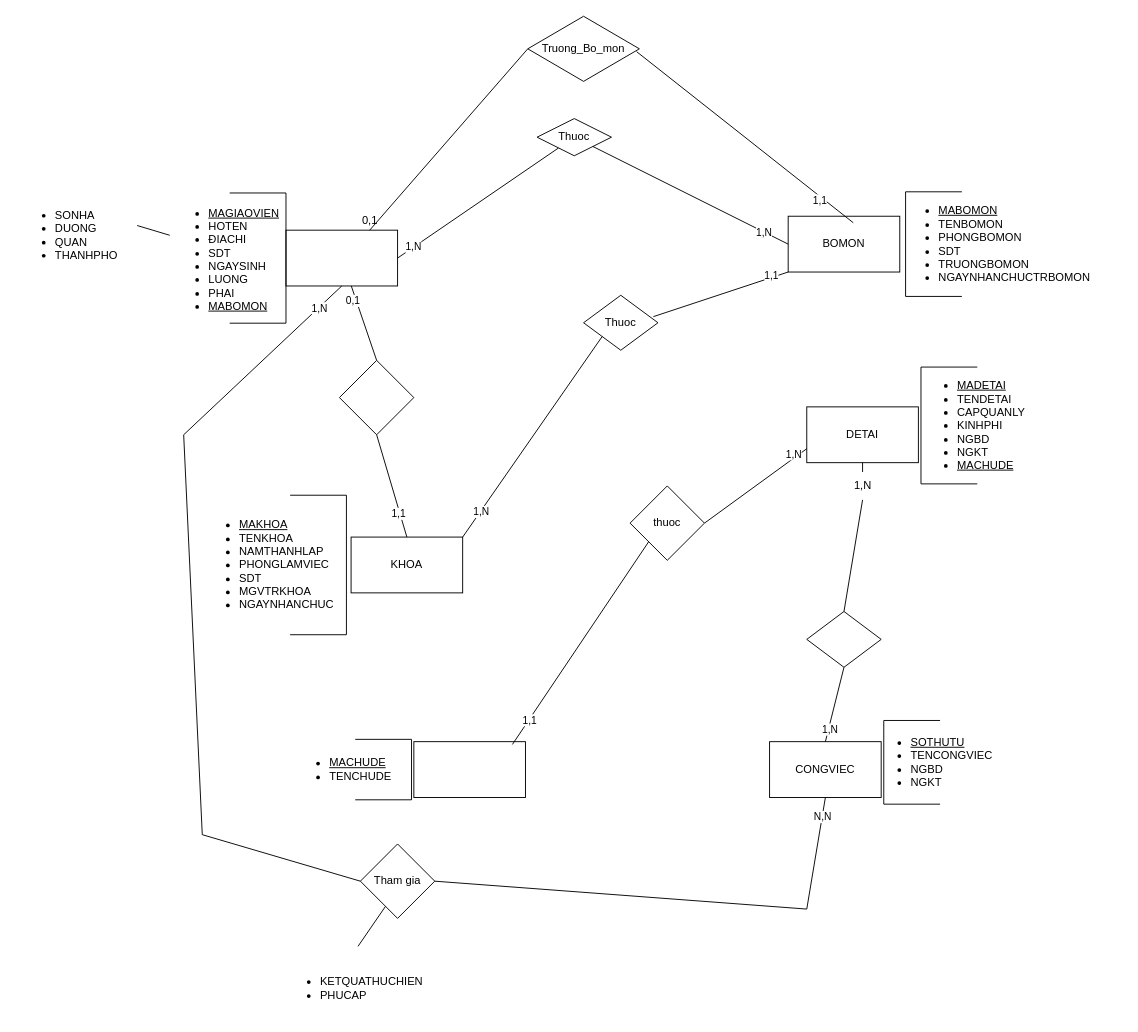
This 1138x1032 diagram has some shape labels left out. The box of each missing label's shape, as (x1, y1, x2, y2) in pixels:
Chia: (806, 611, 881, 667)
CHUDE: (413, 741, 525, 797)
GIAOVIEN: (285, 229, 398, 286)
truong_khoa: (339, 359, 414, 435)
